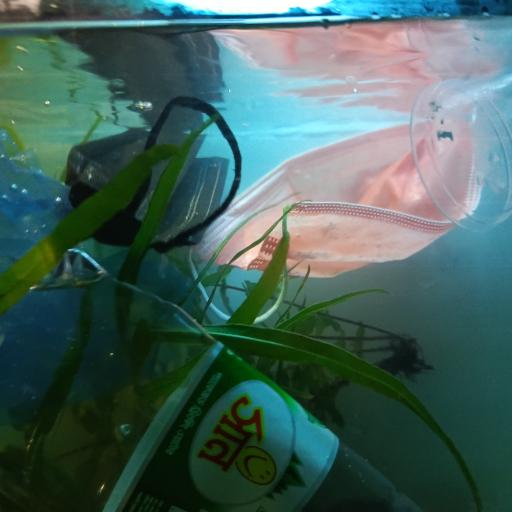mask: (189, 115, 484, 279), (63, 99, 229, 255)
plastic_bag: (0, 127, 125, 414)
plastic_bottle: (0, 235, 420, 512)
plastic_cup: (409, 64, 512, 234)
